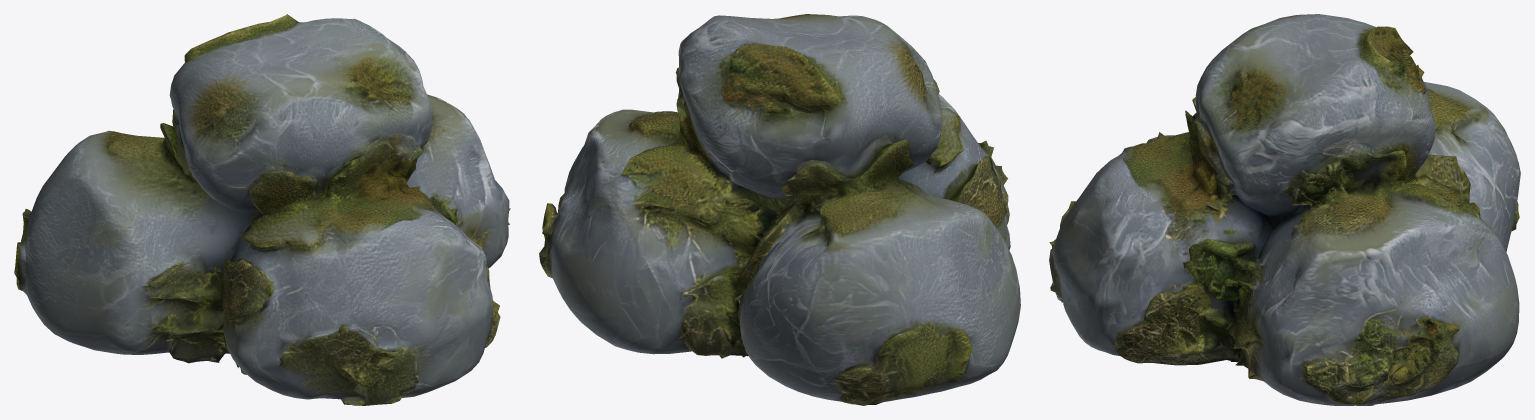
3 views of the same model, side by side, from view 1: azimuth 30°, elevation 25°; view 2: azimuth 150°, elevation 25°; view 3: azimuth 270°, elevation 25° (orthographic). The views are drawn at different scales.
Parts seen in each view (by area): view 1: repaired; view 2: repaired; view 3: repaired.
Part boxes in pixels (x1,y1,x2,y2): repaired: (14,14,510,405); repaired: (539,14,1020,405); repaired: (1049,14,1520,405).
Bounding box in the file's own units: 0.9974 × 0.6311 × 0.9212.
1 material, 1 textured.
